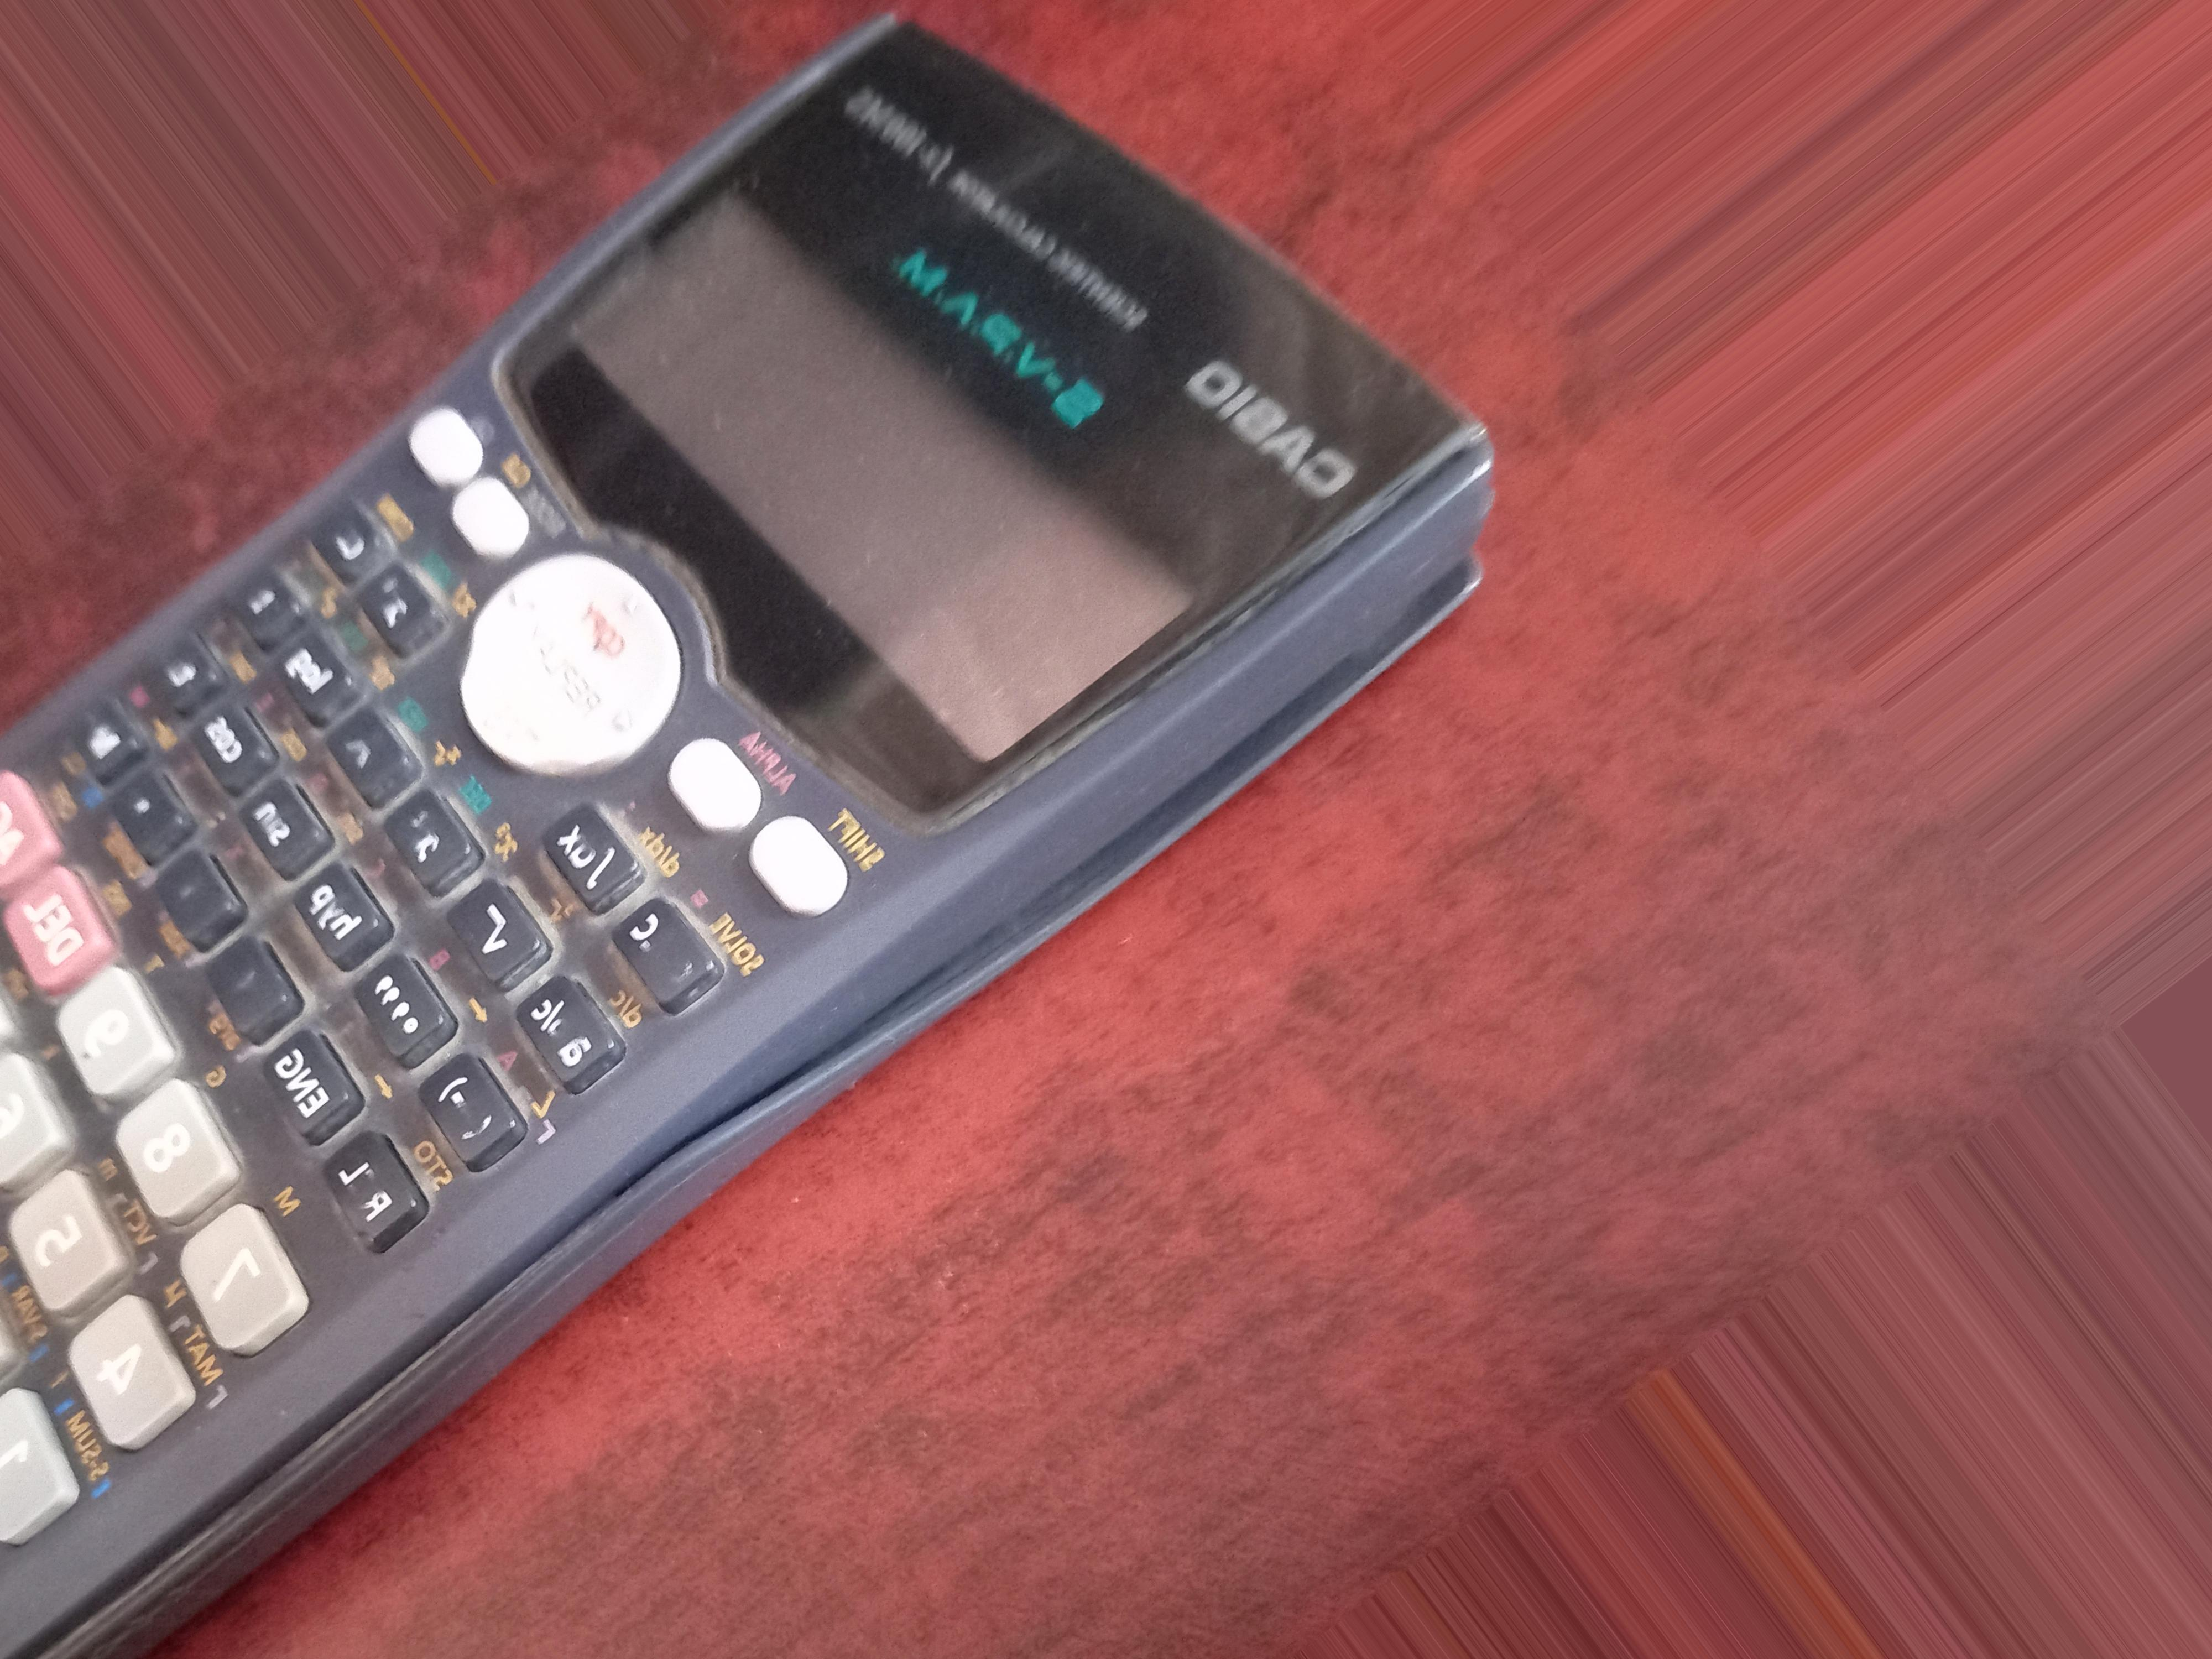calculator: (0, 295, 1411, 1014)
